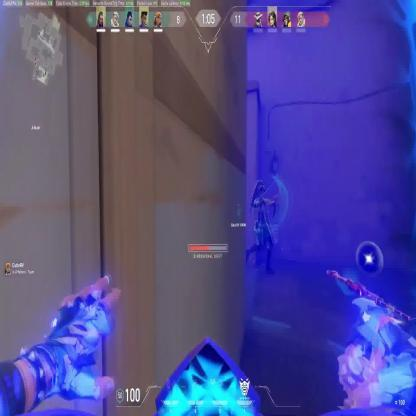enemy: (244, 177, 278, 277)
enemy_head: (254, 180, 266, 202)
